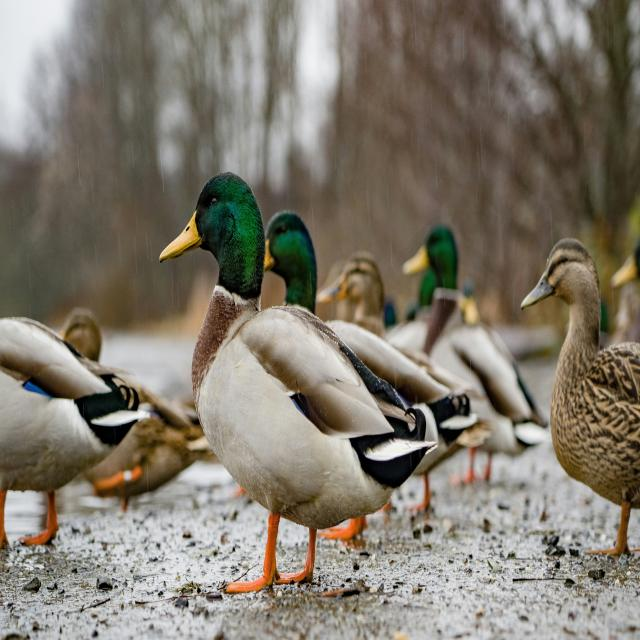ducks: (151, 160, 412, 597), (257, 225, 477, 539), (520, 234, 640, 604), (402, 212, 532, 530)
